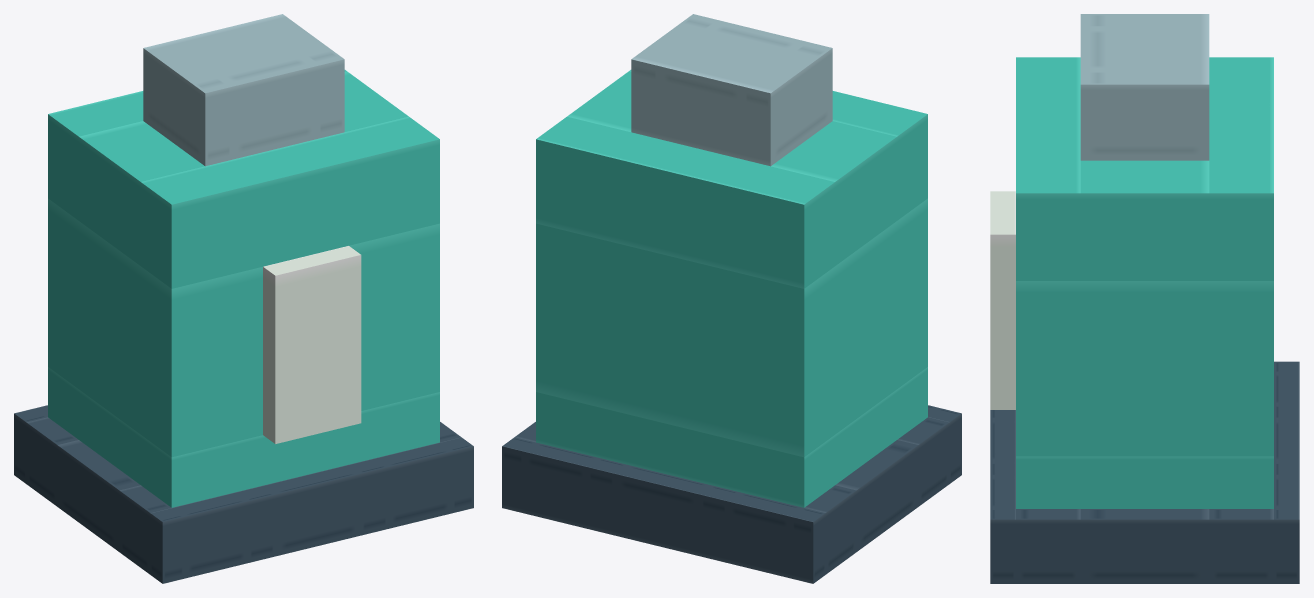
Rendered from sc_pickup_cell.obj.
3 views of the same model, side by side, from view 1: azimuth 30°, elevation 25°; view 2: azimuth 150°, elevation 25°; view 3: azimuth 270°, elevation 25° (orthographic). The views are drawn at different scales.
Size of the model in its own units: 5.8 by 7.8 by 4.8.
Materials: 1 (1 with a texture image).
